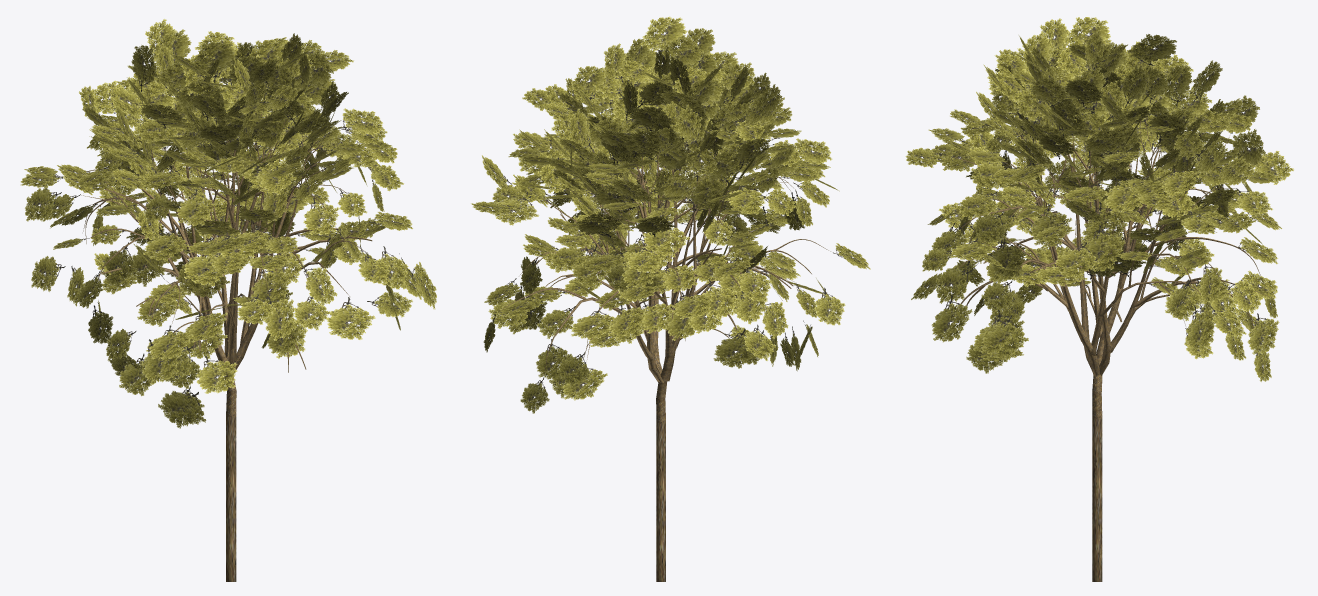
File: palo_verde_a.dae
3 renders of one model, left to right at view 1: azimuth 30°, elevation 25°; view 2: azimuth 150°, elevation 25°; view 3: azimuth 270°, elevation 25°, orthographic. The views are drawn at different scales.
Visible parts, largest first — view 1: tree; view 2: tree; view 3: tree.
Part boxes in pixels (box(x1,y1,x2,y2)): tree: box(20, 19, 436, 581); tree: box(471, 16, 870, 581); tree: box(905, 17, 1293, 581).
Size of the model in its own units: 6.09 by 6.67 by 10.04.
